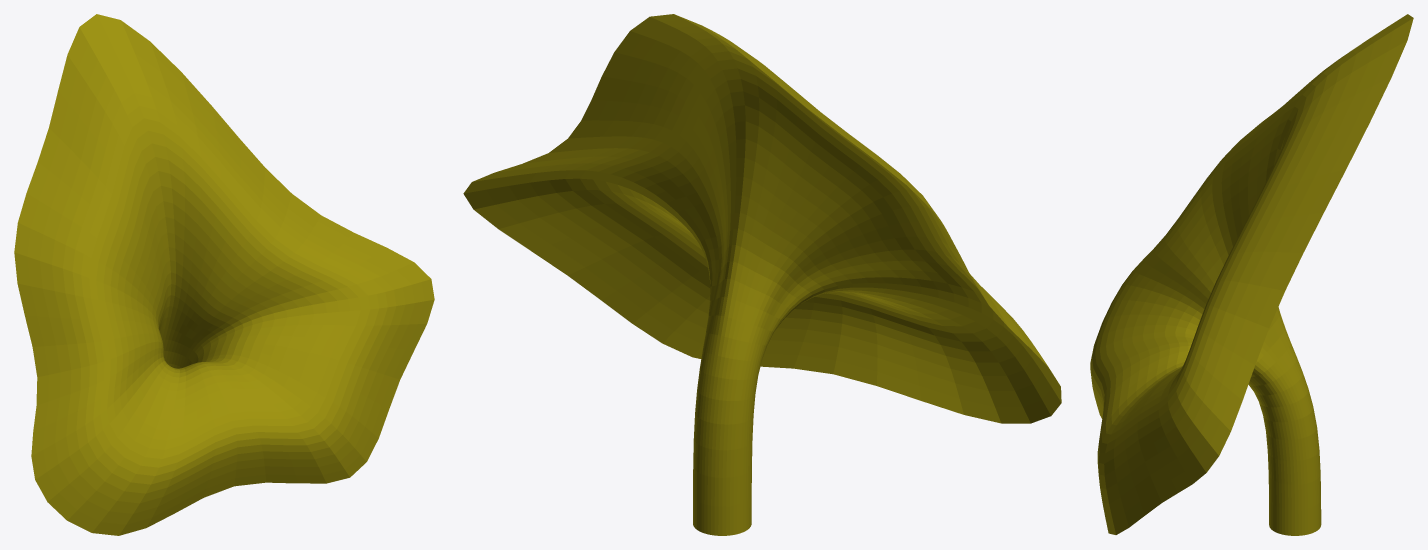
File: biomass_03.glb
3 views of the same model, side by side, from view 1: azimuth 30°, elevation 25°; view 2: azimuth 150°, elevation 25°; view 3: azimuth 270°, elevation 25° (orthographic). The views are drawn at different scales.
Visible parts, largest first — view 1: Circle; view 2: Circle; view 3: Circle.
Part boxes in pixels (x1,y1,x2,y2): Circle: (14,14,434,535); Circle: (463,14,1061,535); Circle: (1090,14,1413,535).
Bounding box in the file's own units: 0.6669 × 0.6485 × 0.381.
